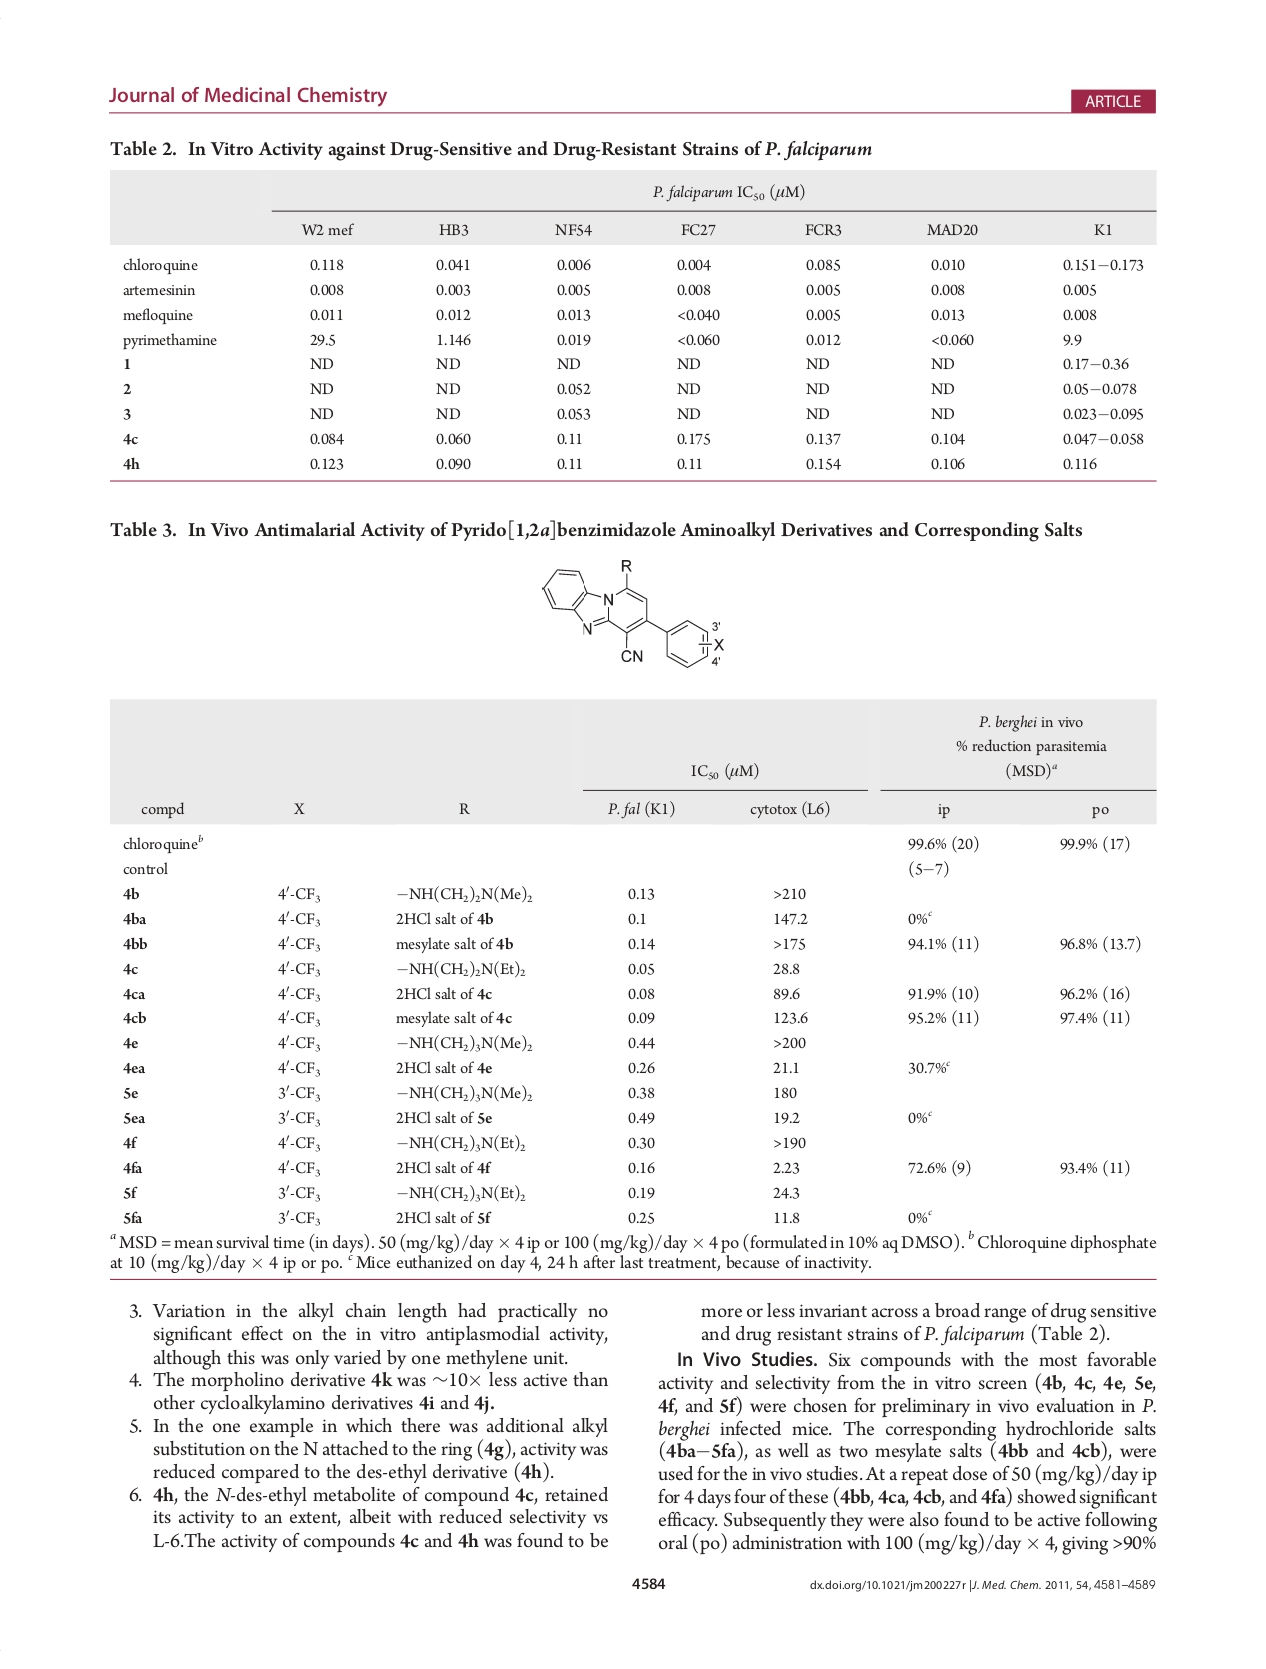exist_molecular: (539, 556, 727, 672)
